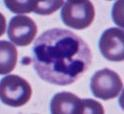N: (33, 27, 93, 86)
